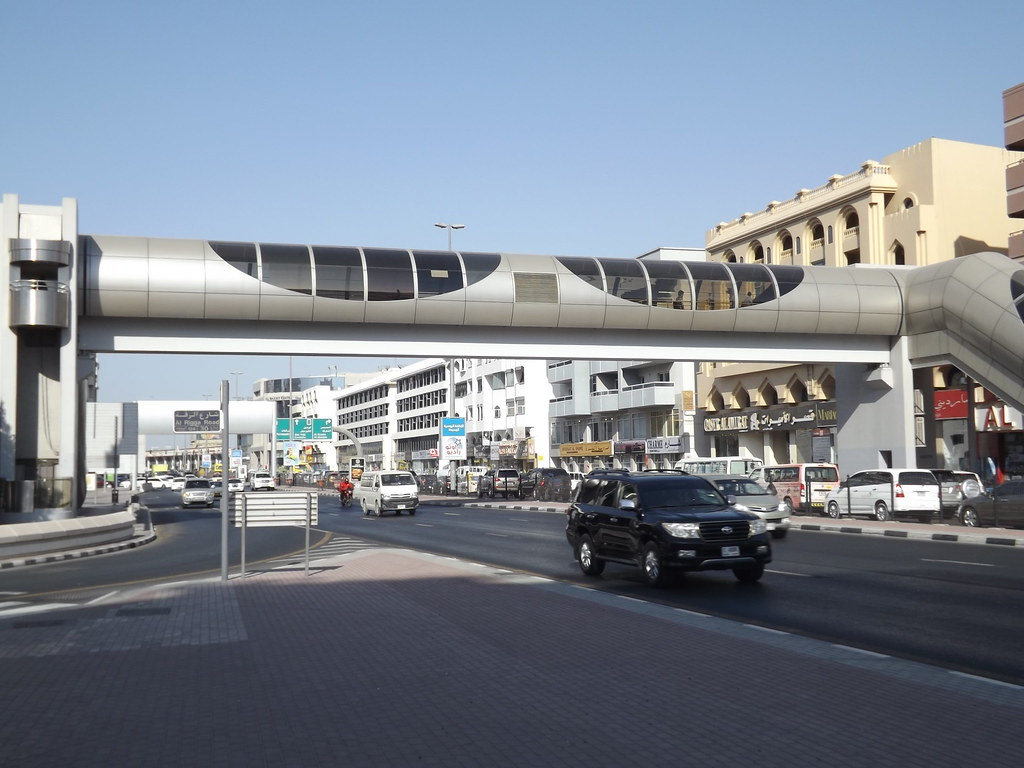bridge: (83, 235, 896, 370)
